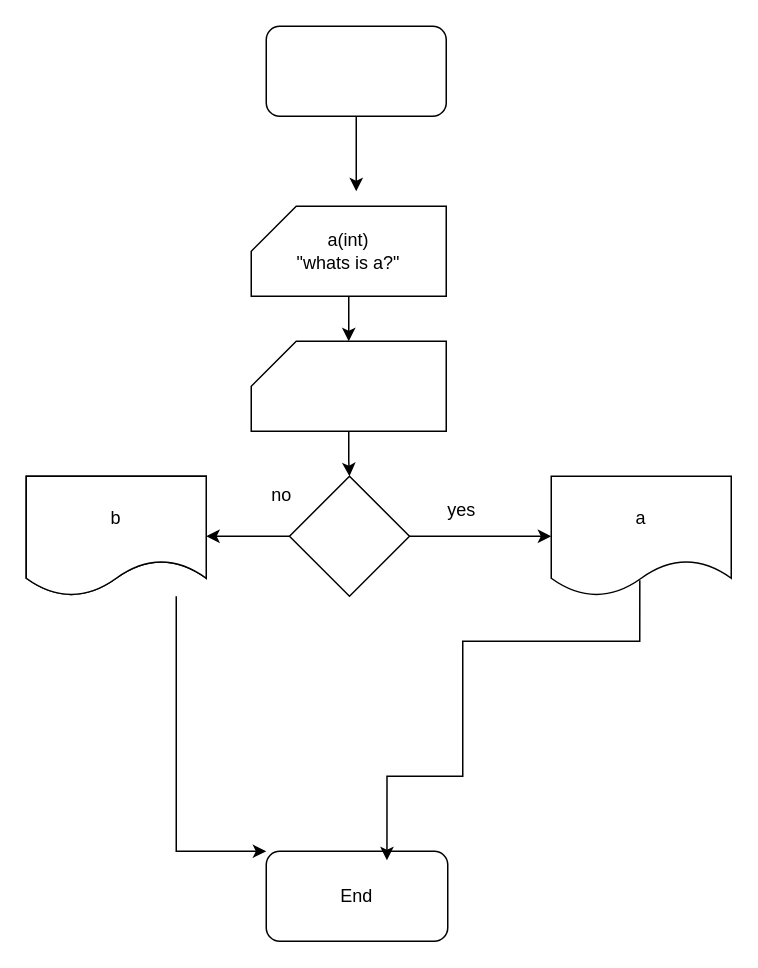
This 758x968 diagram has some shape labels left out. Each missing label, with the centre of its shape:
a>b: (349,535)
b(int) "whats is b?": (348,385)
Start: (355,70)
